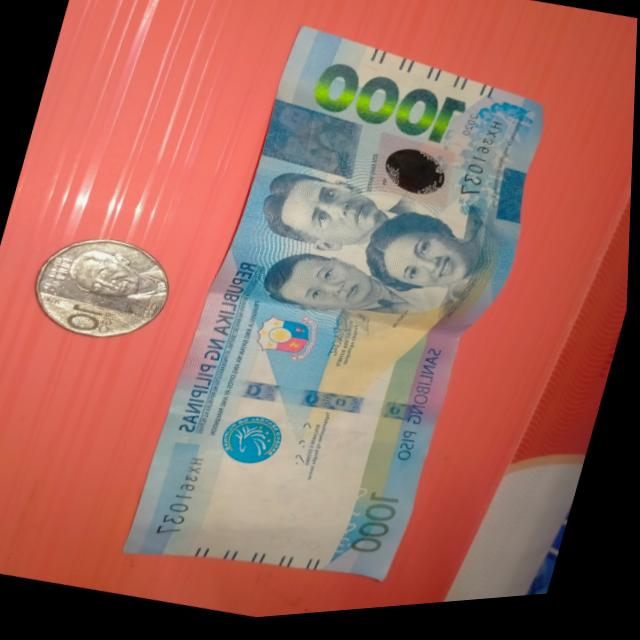optically_variable_device: (369, 136, 464, 217)
security_thread: (182, 354, 445, 454)
see_through_mark: (329, 482, 383, 567)
value: (265, 97, 371, 186)
